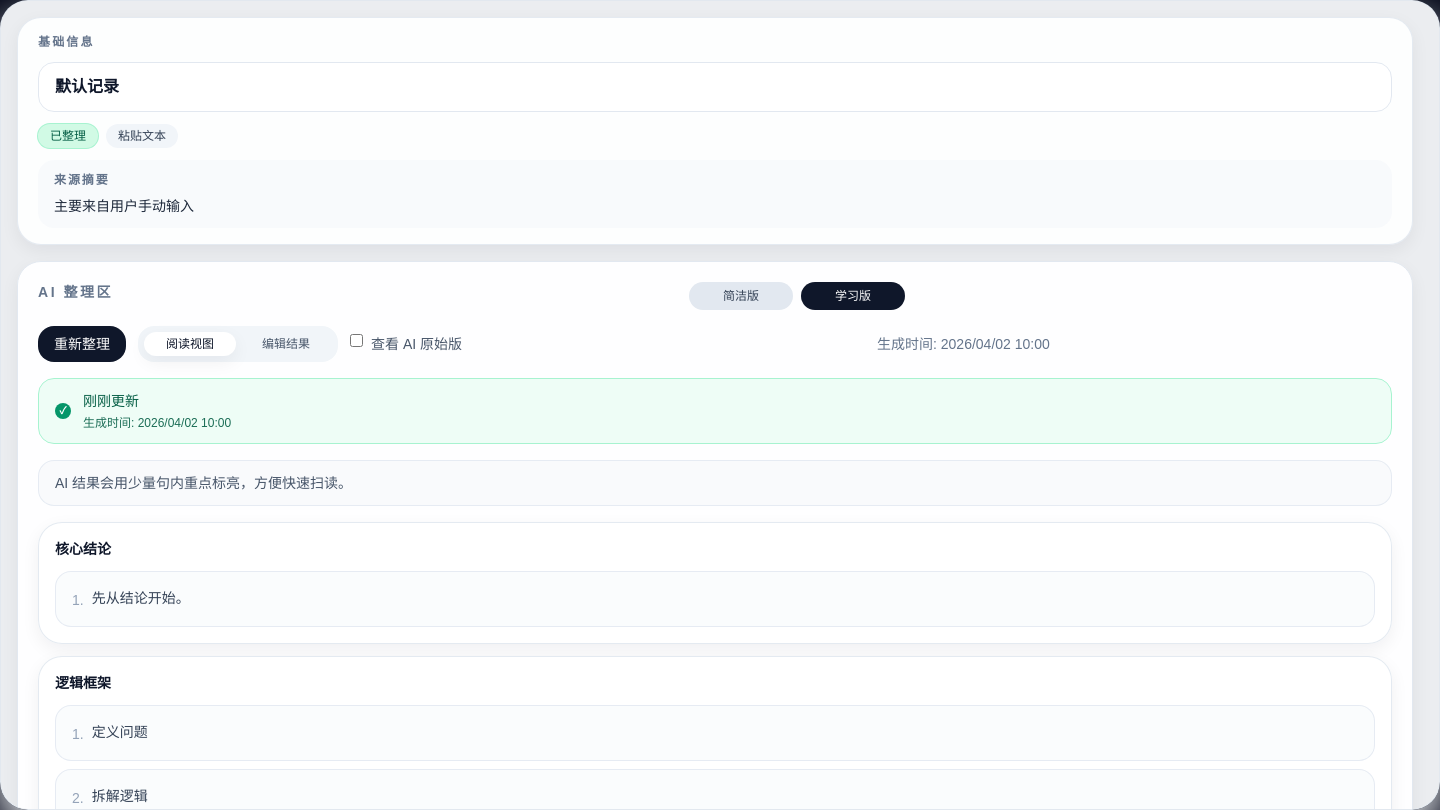
Test: DetailPane AI knowledge view › shows loading feedback immediately and preserves the previous result while re-analyzing
Click the button "重新整理".
click(82, 344)  # box [38, 326, 126, 362]
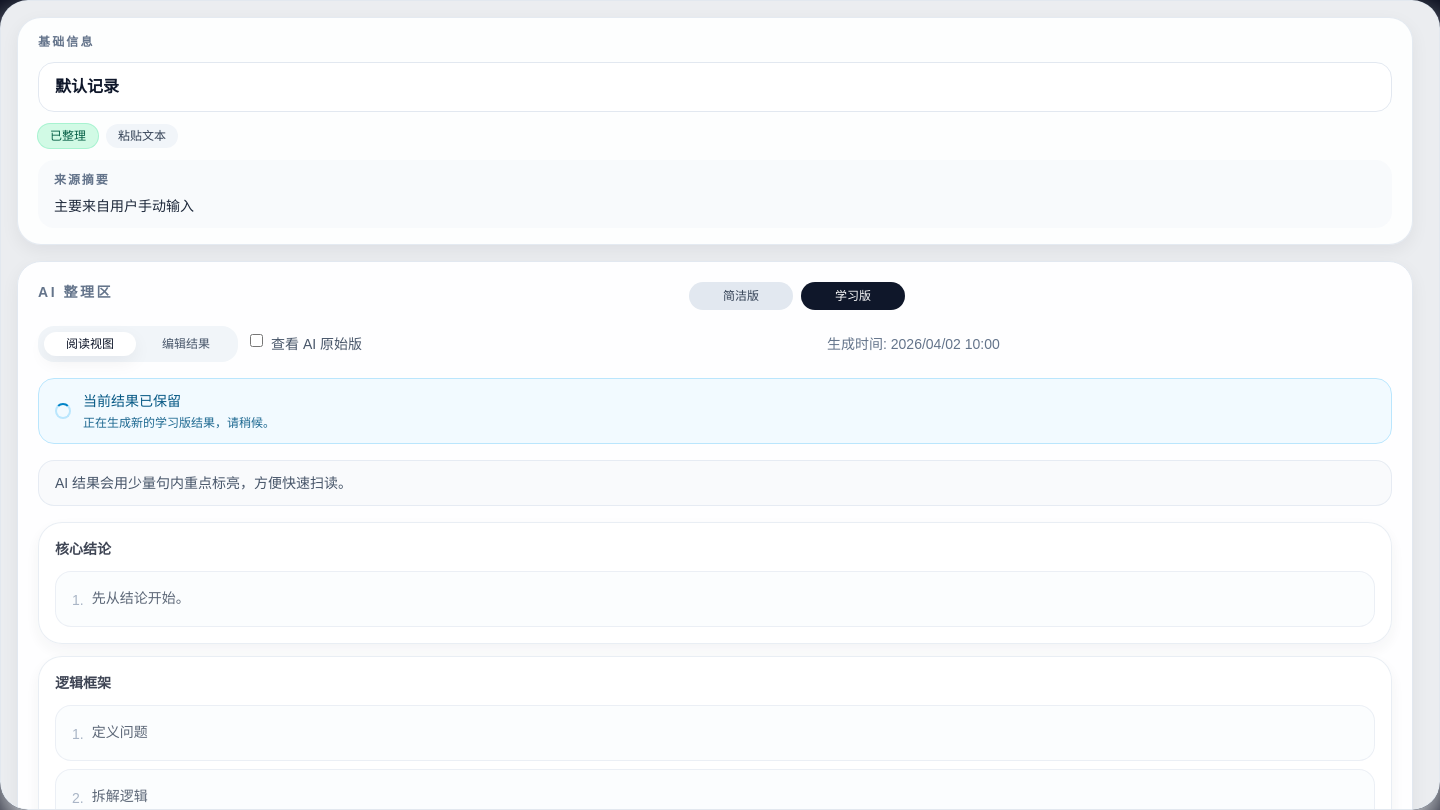
Expected: the button with test id "detail-ai-primary-action" is gone
Expected: the text "当前结果已保留" is shown, [83, 393, 181, 409]
Expected: the text "正在生成新的学习版结果，请稍候。" is shown, [83, 415, 275, 431]
